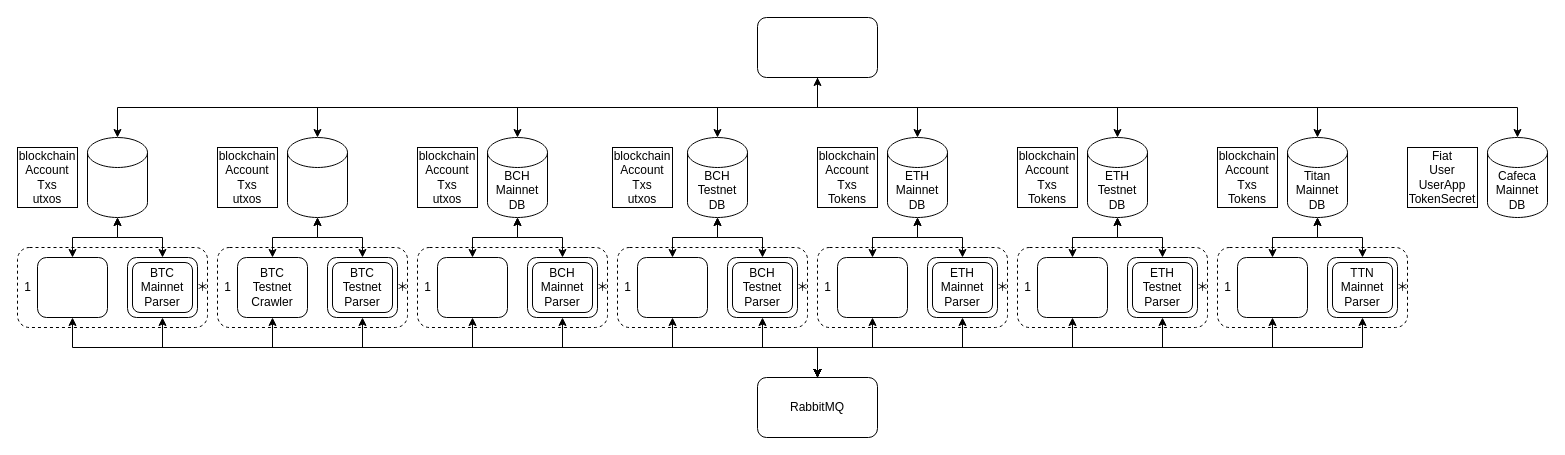
Some shapes in this 1565 by 455 pixel diagram are drawn without their labels. Here are the shapes that lost their labels. From the top down, the centre of each, then its label:
At point 817,47: "TideWalletBackend".
At point 117,177: "BTC Mainnet DB".
At point 317,177: "BTC Testnet DB".
At point 72,287: "BTC Mainnet Crawler".
At point 472,287: "BCH Mainnet Crawler".
At point 672,287: "BCH Testnet Crawler".
At point 872,287: "ETH Mainnet Crawler".
At point 1072,287: "ETH Testnet Crawler".
At point 1272,287: "TTN Mainnet Crawler".
